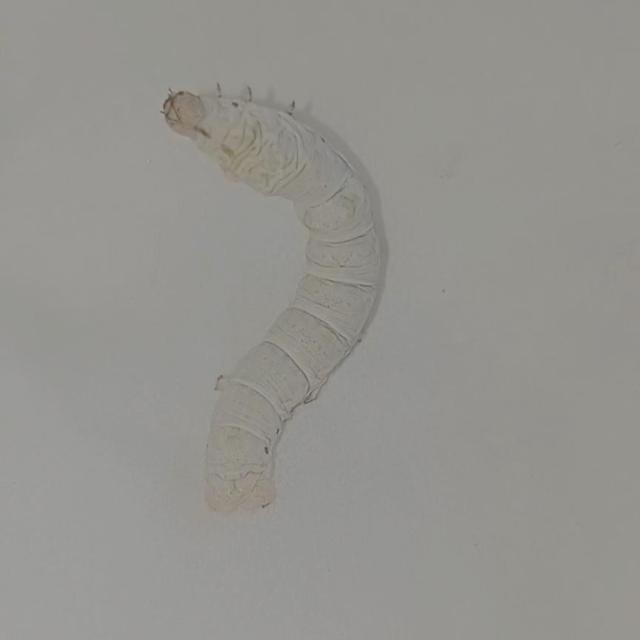Healthy: (104, 67, 403, 523)
